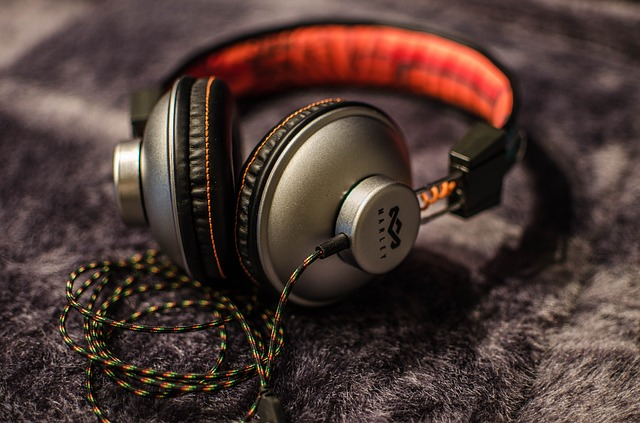headphones: (113, 15, 524, 311)
